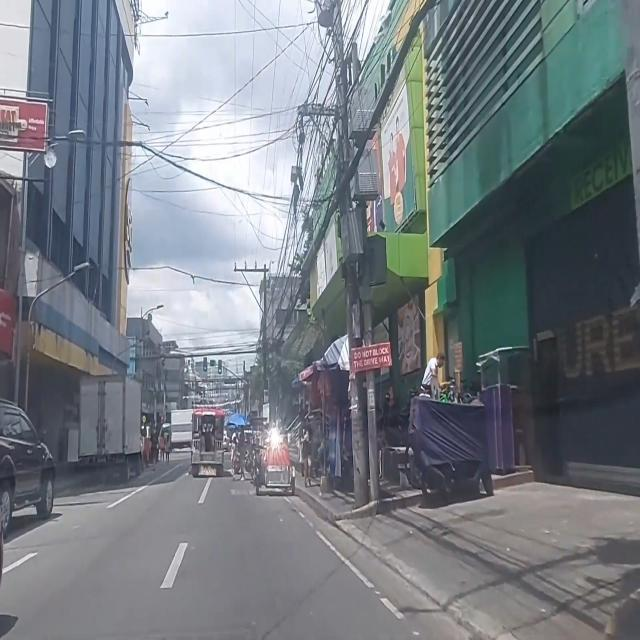car: (0, 398, 58, 533)
jeepney: (190, 405, 228, 478), (252, 437, 296, 497)
motorcycle: (409, 396, 497, 502), (150, 424, 158, 465)
truck: (79, 374, 143, 484), (158, 409, 193, 452)
